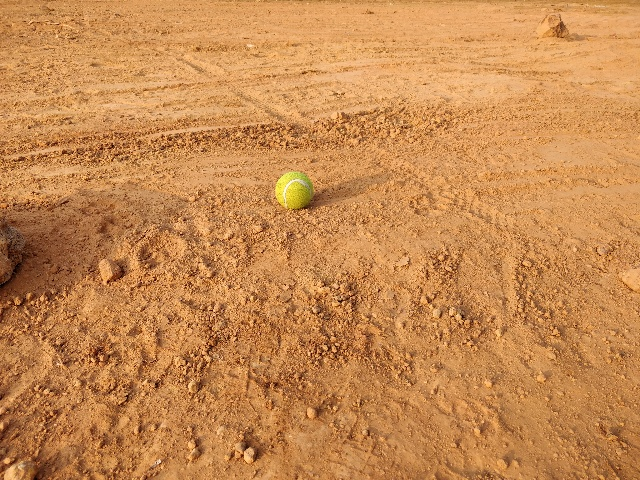ball: (270, 169, 317, 212)
